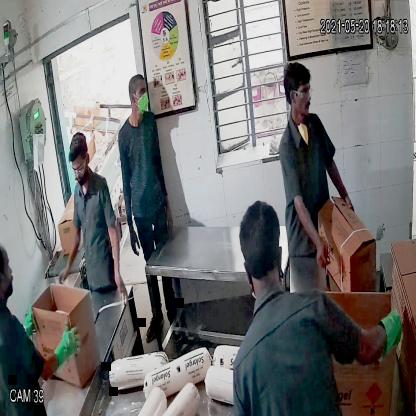goggles: (287, 82, 316, 100), (68, 159, 89, 174)
no_goggles: (129, 84, 151, 100)
